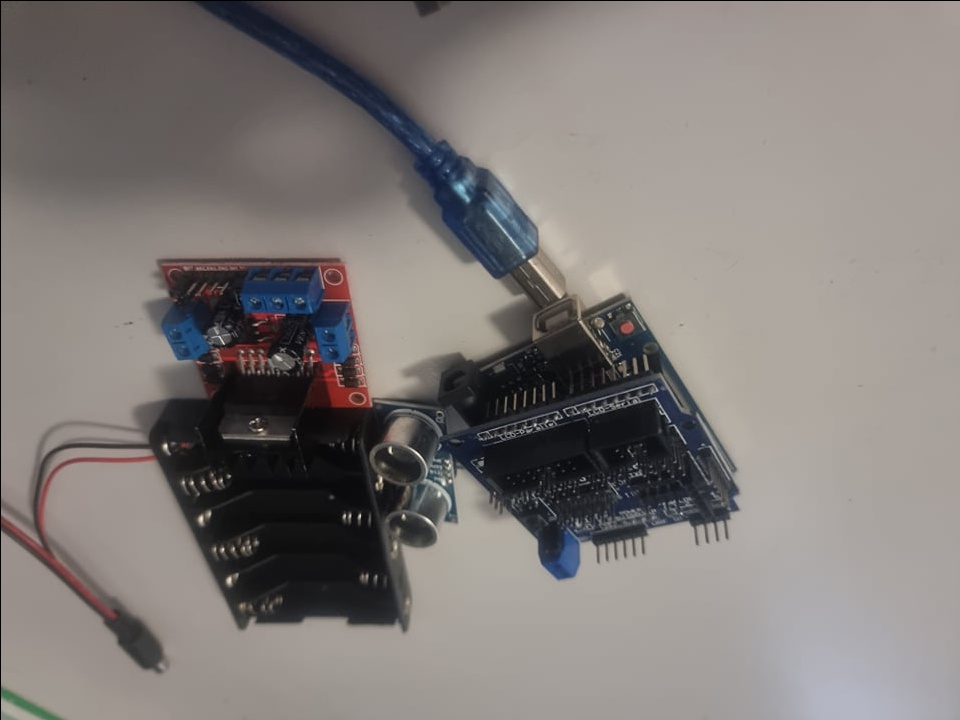5V EXPANSION: (442, 401, 739, 579)
BATTERY BOX: (149, 398, 419, 630)
MOTOR: (154, 254, 357, 466)
SENSOR: (371, 396, 464, 550)
UNO R3: (415, 290, 652, 404)
